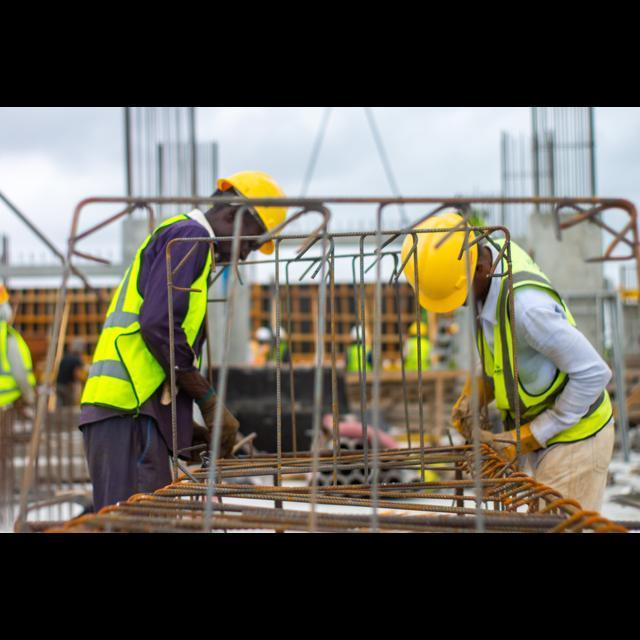Capacete: (415, 212, 468, 312), (217, 171, 285, 198), (0, 284, 8, 304), (420, 322, 427, 337)
Colete: (81, 215, 187, 410), (477, 277, 567, 423), (0, 320, 35, 405), (404, 336, 429, 370), (346, 342, 371, 371)
